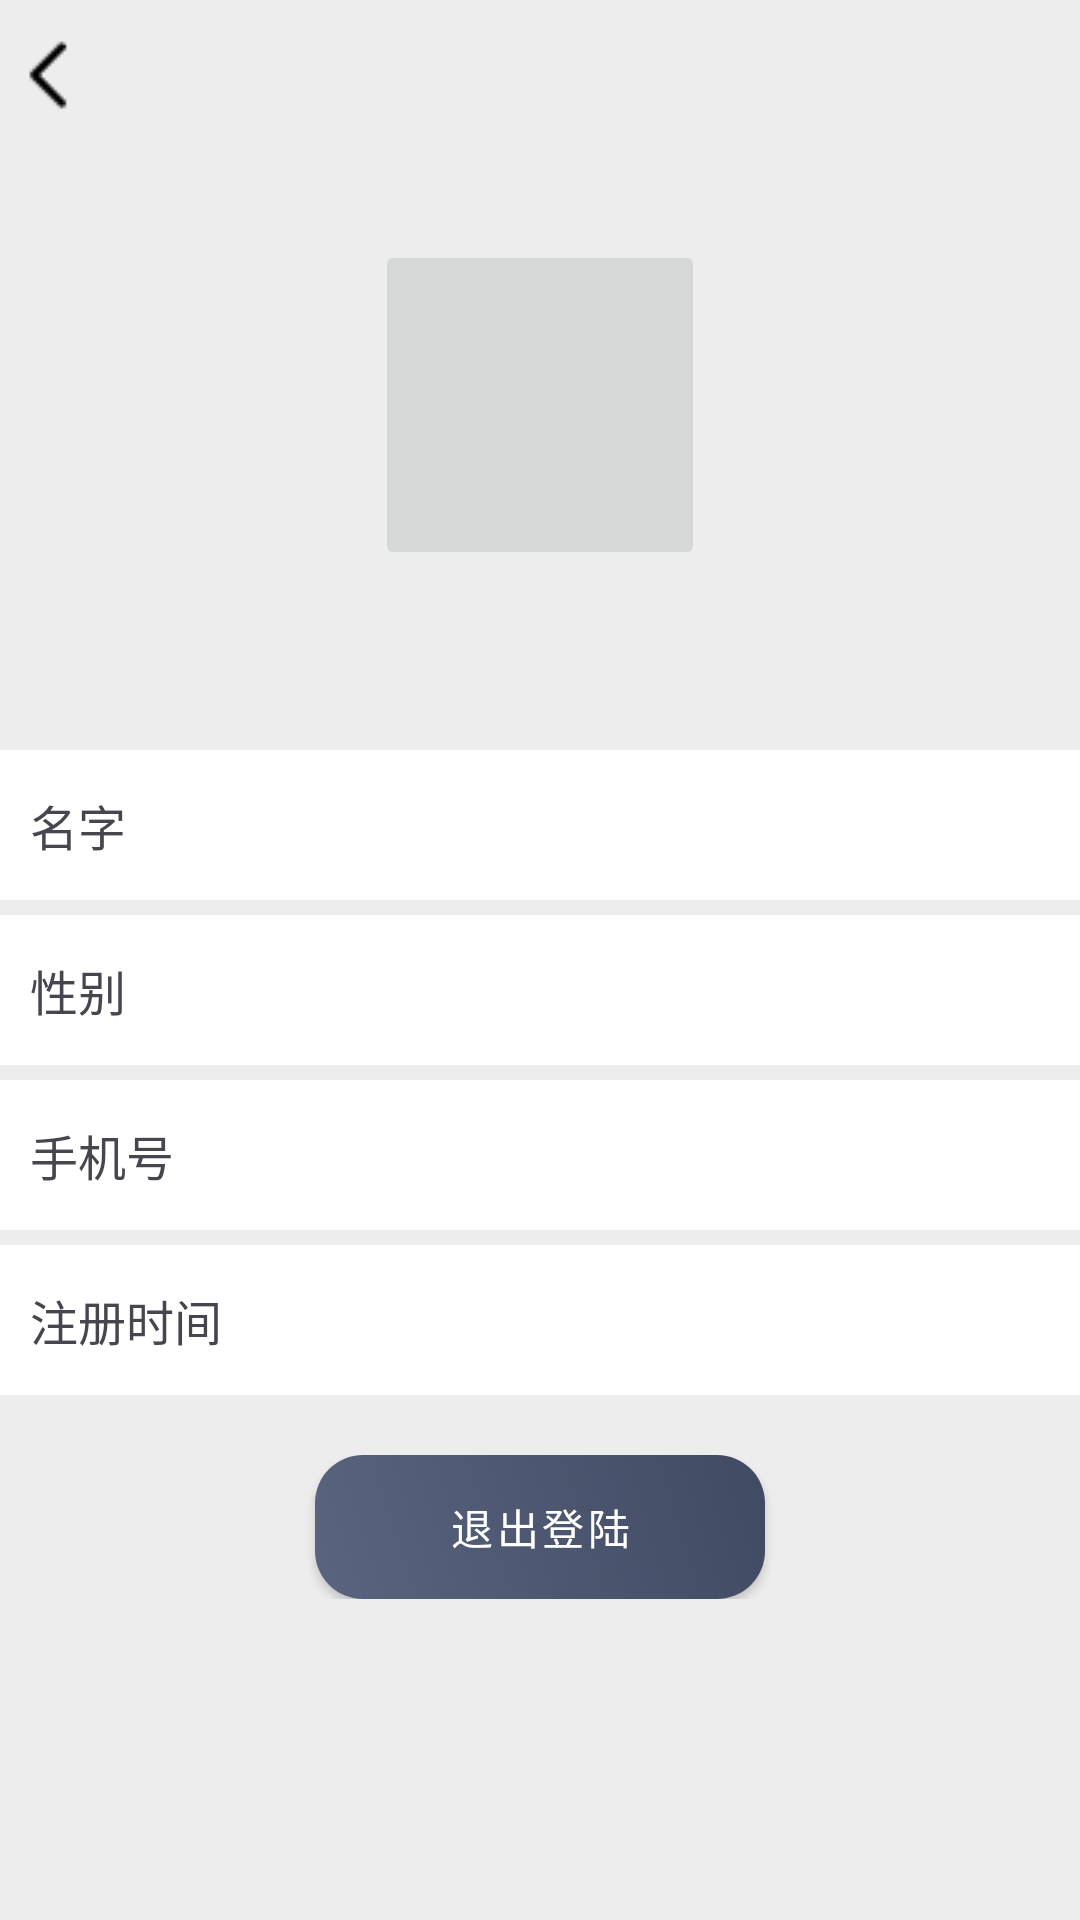

Point at icon controls on the screen. Image size 1080w x 1920h, points as (x=x, y=y).
left exit: (x=48, y=75)
